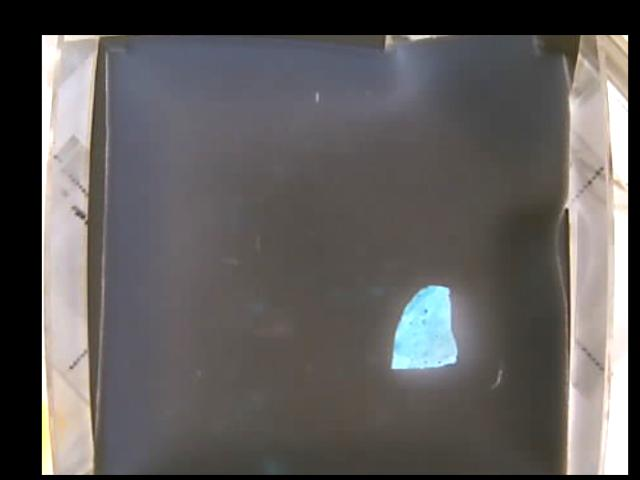Brisk: (393, 284, 456, 373)
